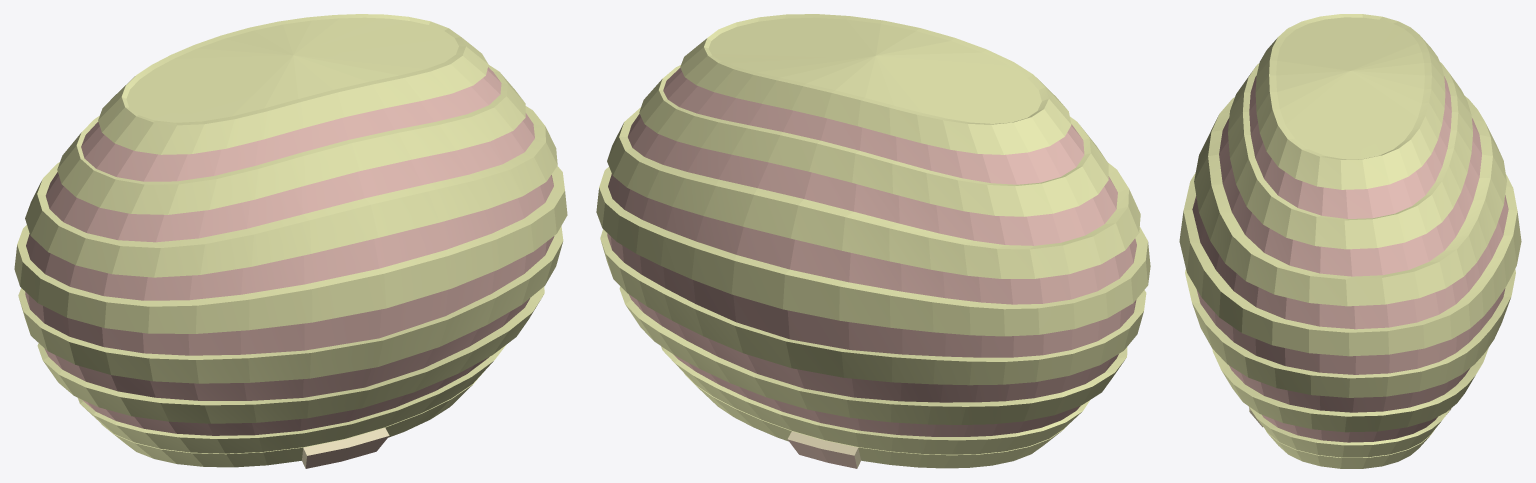
Rendered from Building Background_04.fbx.
The picture shows the model from 3 angles, left to right: view 1: azimuth 30°, elevation 25°; view 2: azimuth 150°, elevation 25°; view 3: azimuth 270°, elevation 25°; orthographic projection. The views are drawn at different scales.
Visible parts, largest first — view 1: Building4; view 2: Building4; view 3: Building4.
Boxes of the visible parts, x1,y1,x2,y2 form: Building4: (14,14,567,468); Building4: (596,14,1150,468); Building4: (1179,14,1521,468).
Bounding box in the file's own units: 10.41 × 7.21 × 6.55.
